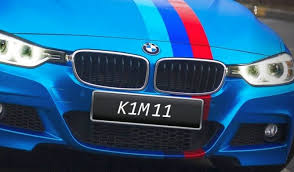number_plate: (87, 89, 213, 136)
